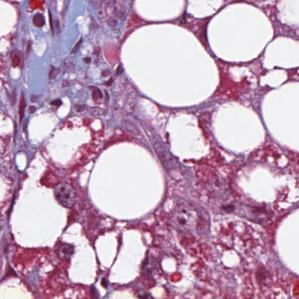ballooning: (24, 106, 96, 176)
